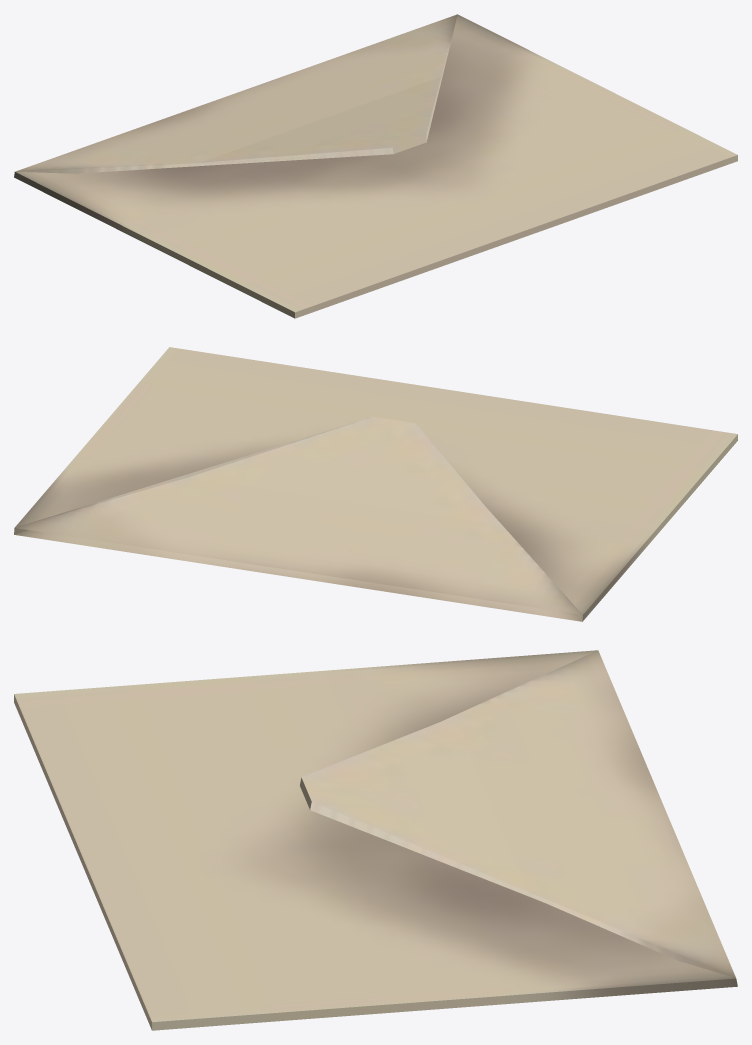
File: letter.glb
The picture shows the model from 3 angles, top to bottom: view 1: azimuth 30°, elevation 25°; view 2: azimuth 150°, elevation 25°; view 3: azimuth 270°, elevation 25°; orthographic projection. The views are drawn at different scales.
Visible parts, largest first — view 1: Plane.002; view 2: Plane.002; view 3: Plane.002.
Boxes of the visible parts, x1,y1,x2,y2 form: Plane.002: [14, 14, 737, 318]; Plane.002: [14, 347, 737, 621]; Plane.002: [14, 650, 737, 1030].
Size of the model in its own units: 0.3753 by 0.0284 by 0.3085.
1 material, 1 textured.
